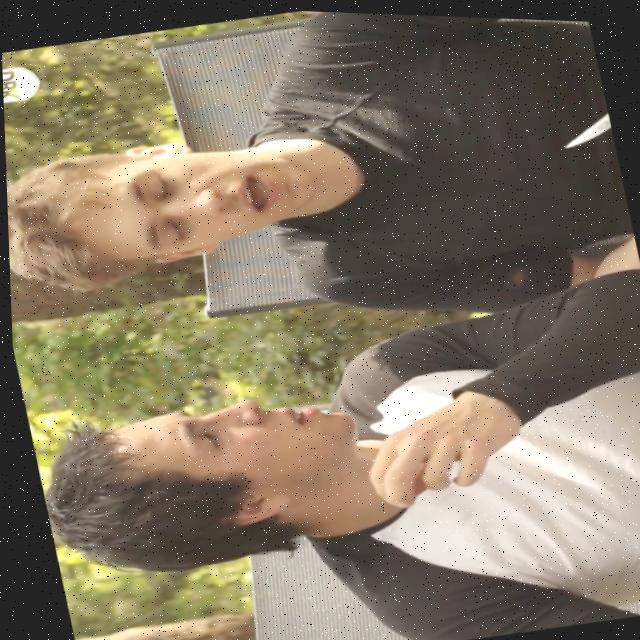knife: (542, 78, 615, 155)
